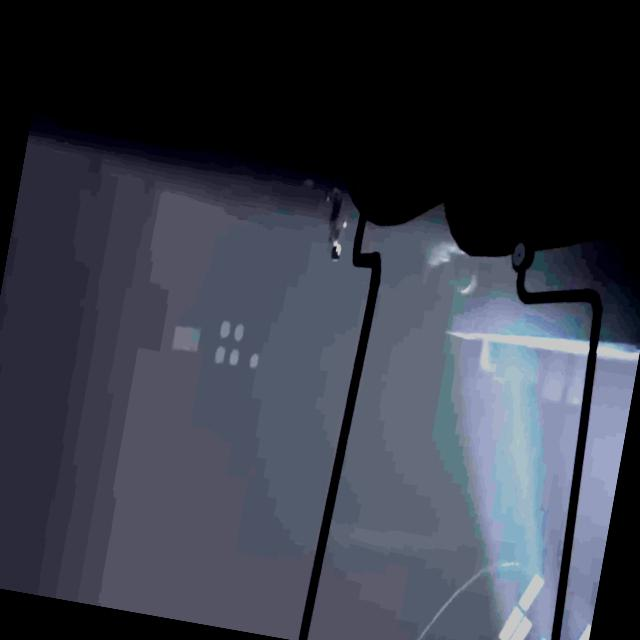boy: (316, 185, 352, 262)
